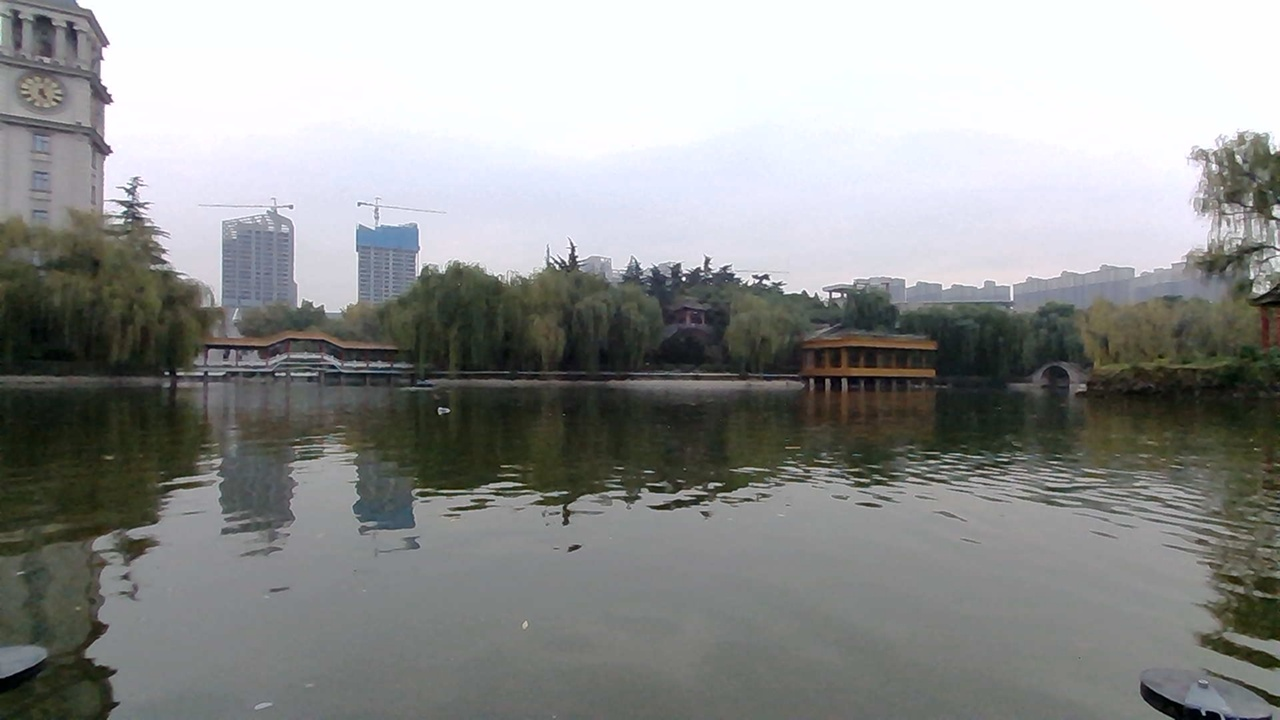bottle: (420, 396, 465, 420)
